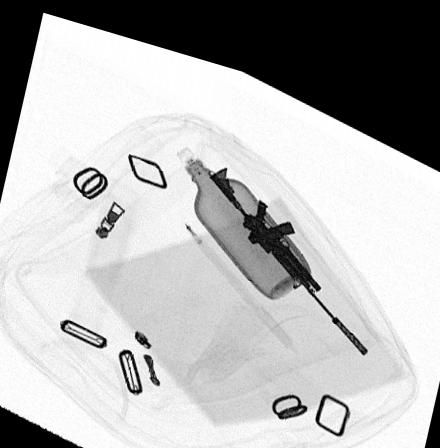Gun: (207, 154, 371, 337)
